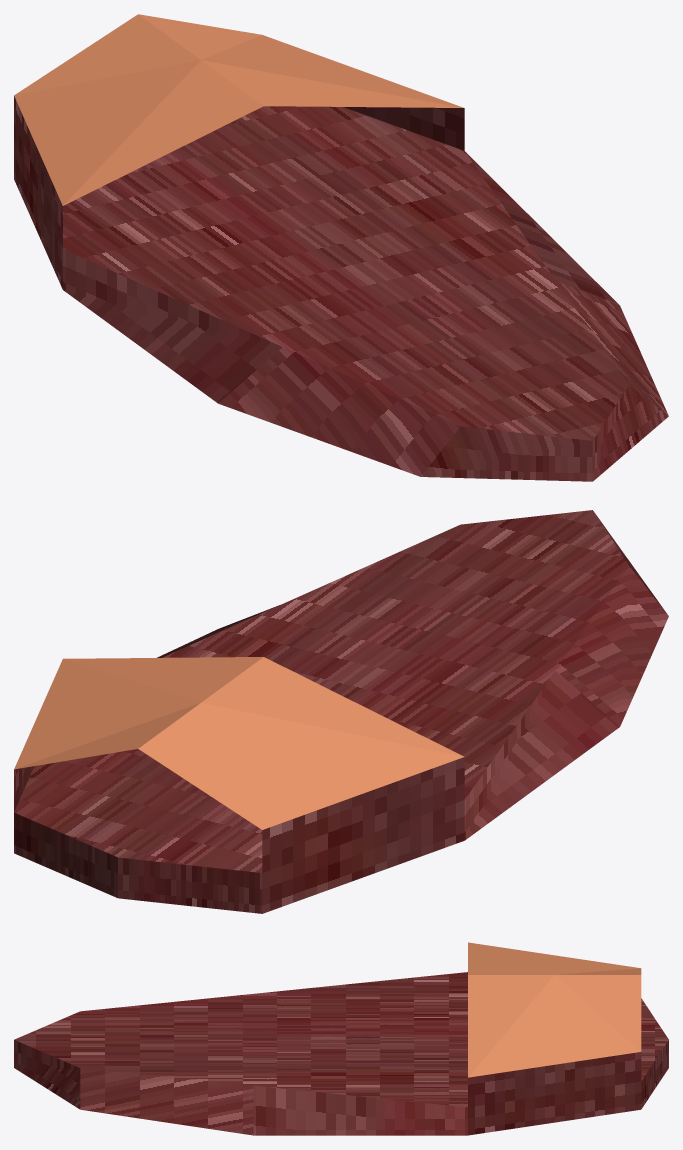
Rendered from cloth_slipper.glb.
3 renders of one model, top to bottom at view 1: azimuth 30°, elevation 25°; view 2: azimuth 150°, elevation 25°; view 3: azimuth 270°, elevation 25°, orthographic. The views are drawn at different scales.
Visible parts, largest first — view 1: slipper; view 2: slipper; view 3: slipper.
Part boxes in pixels (bbox=[...]): slipper: bbox=[14, 14, 668, 481]; slipper: bbox=[14, 510, 668, 913]; slipper: bbox=[14, 942, 668, 1135].
Size of the model in its own units: 0.4191 by 0.1343 by 0.8574.
2 materials, 1 textured.
